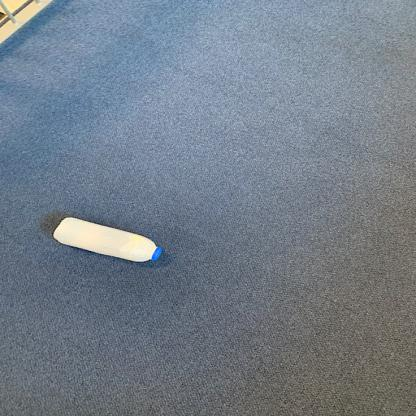trash: (54, 214, 164, 264)
